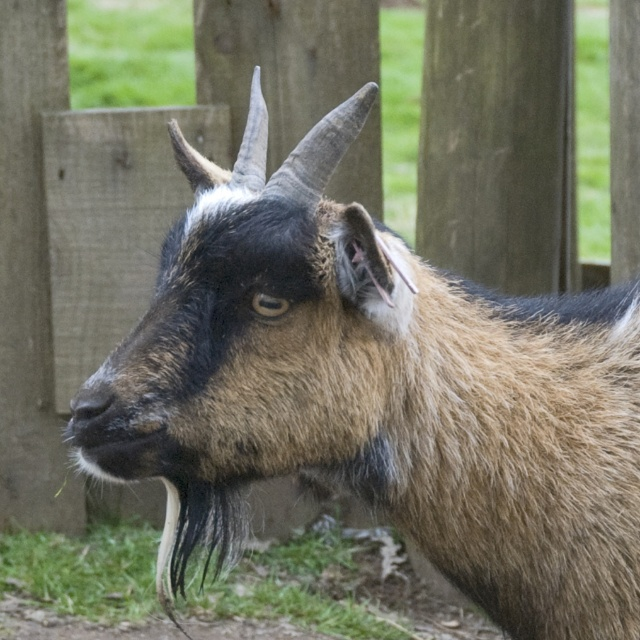Goat: (63, 65, 640, 640)
